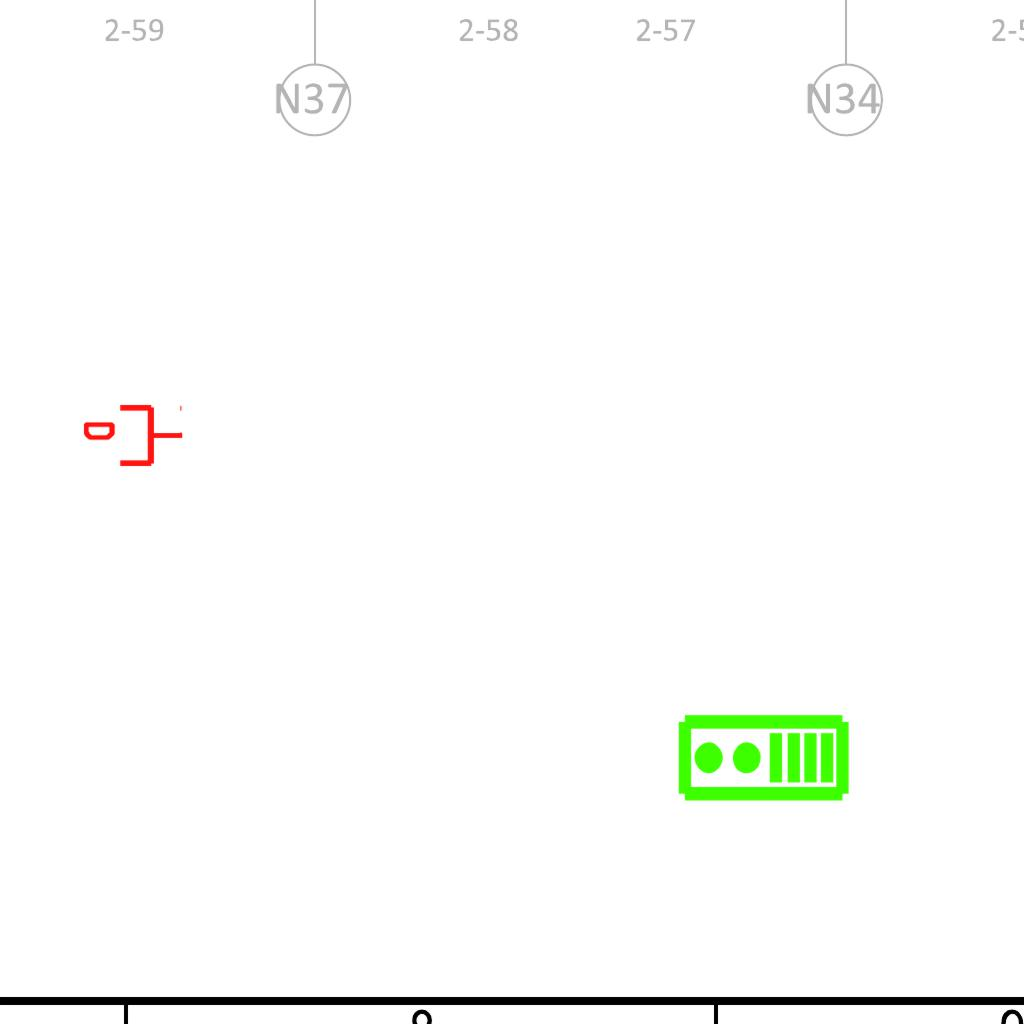Datenanschluss_einfach: (84, 401, 184, 470)
Gegensprechanlage_mit_Video: (675, 712, 851, 807)
